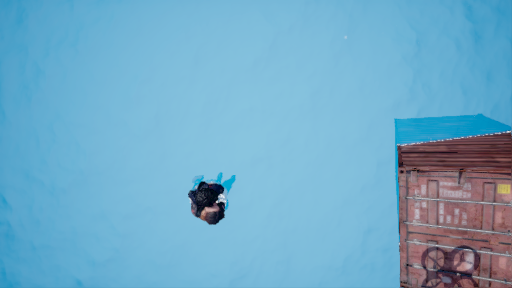person: (192, 172, 239, 229)
